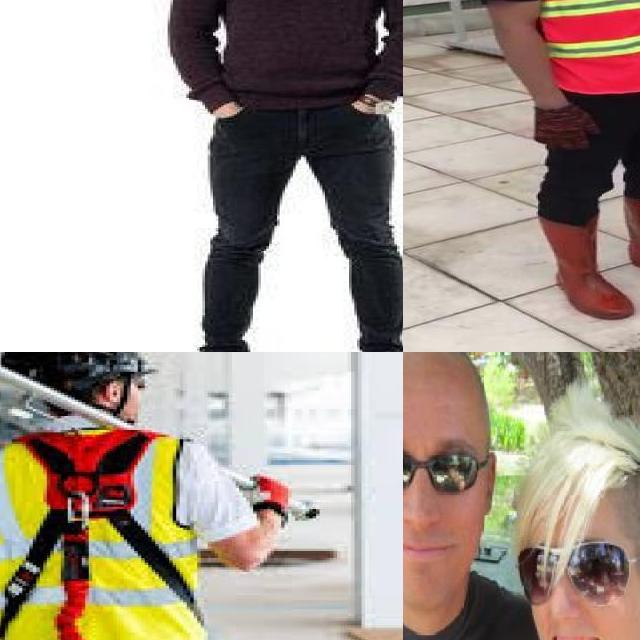Harness: (0, 430, 200, 640)
boots: (538, 210, 634, 320)
face_nomask: (403, 437, 490, 572), (527, 545, 633, 640)
glasses: (510, 536, 640, 607), (403, 437, 497, 500)
hand_glove: (531, 105, 600, 152)
head_nohelmet: (517, 418, 640, 521), (403, 352, 489, 390)
person: (162, 0, 403, 352), (457, 0, 640, 339), (403, 352, 555, 640), (486, 389, 640, 640)
vest: (531, 0, 640, 92)
